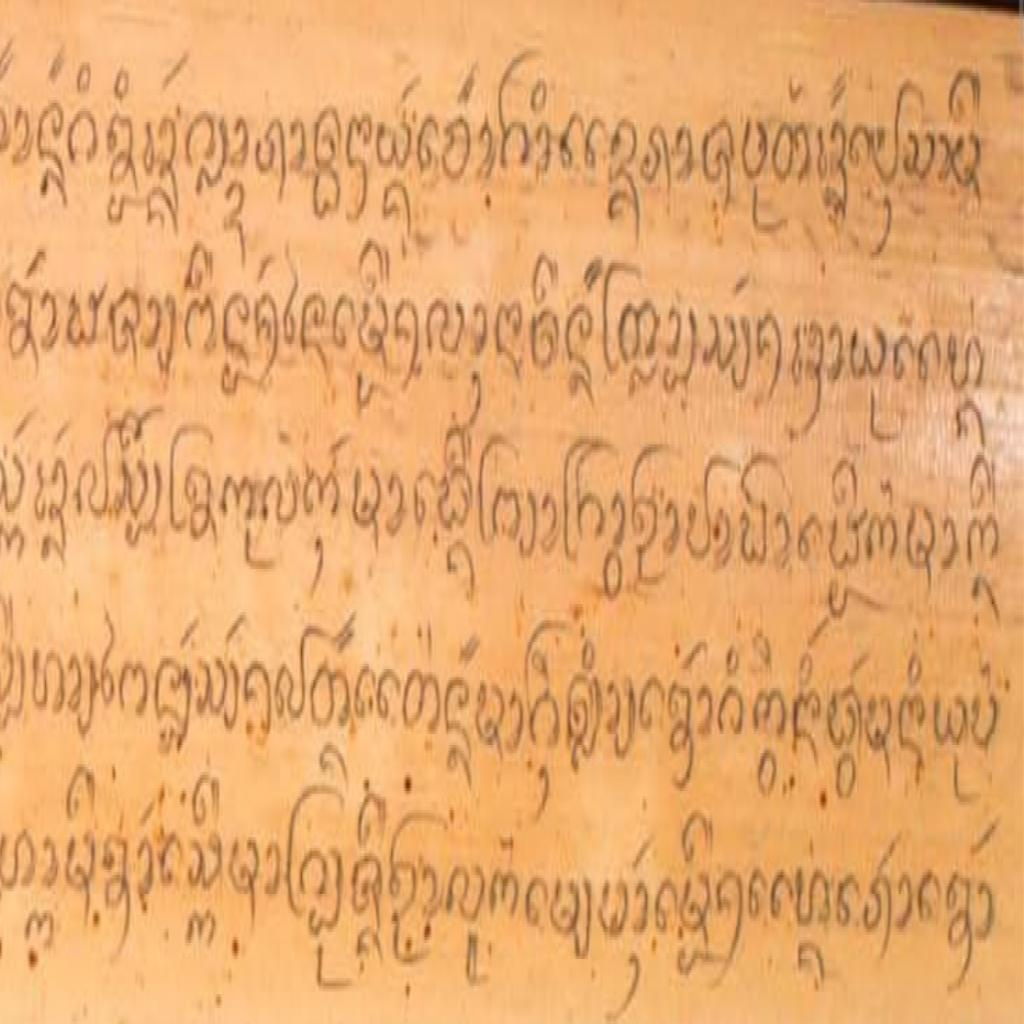LN002: (106, 108, 140, 197)
LN020: (825, 678, 865, 754)
